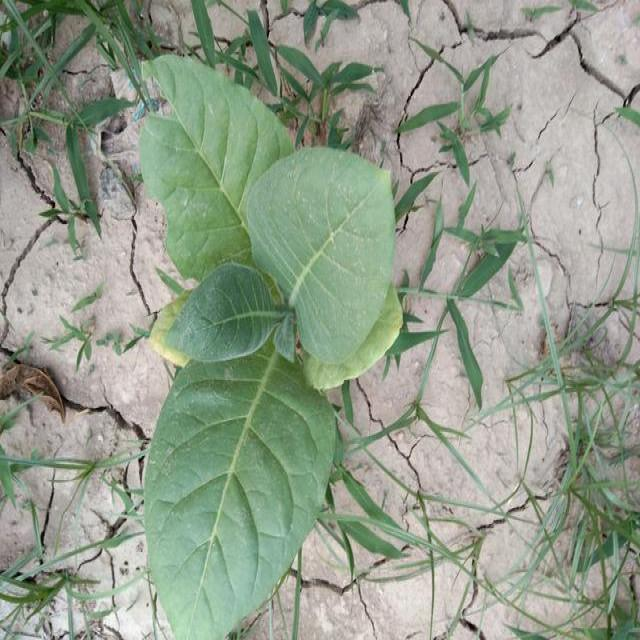crop: (141, 47, 395, 640)
